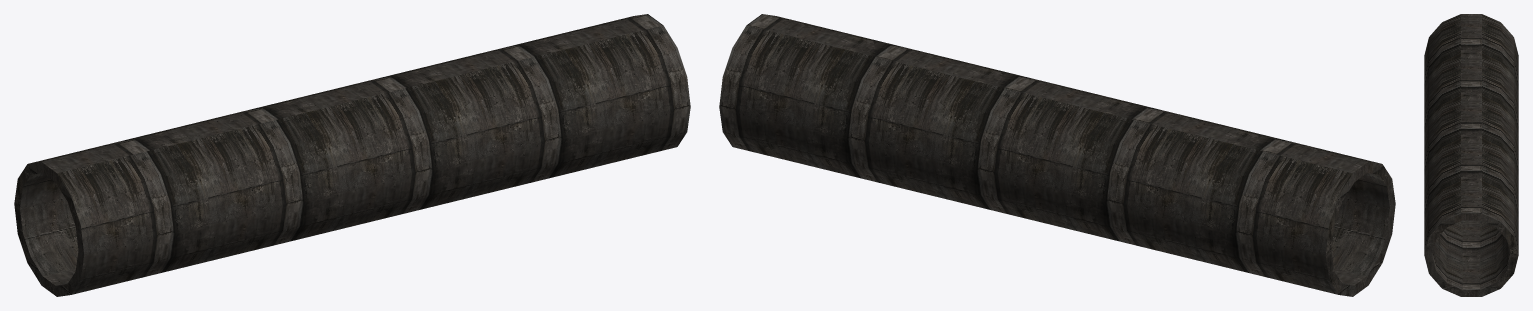
Rendered from ConcreteTube.fbx.
The picture shows the model from 3 angles, left to right: view 1: azimuth 30°, elevation 25°; view 2: azimuth 150°, elevation 25°; view 3: azimuth 270°, elevation 25°; orthographic projection. The views are drawn at different scales.
Parts seen in each view (by area): view 1: Cylinder; view 2: Cylinder; view 3: Cylinder.
Part boxes in pixels (box(x1,y1,x2,y2)): Cylinder: box(14, 14, 690, 296); Cylinder: box(719, 14, 1395, 296); Cylinder: box(1424, 14, 1518, 296).
Bounding box in the file's own units: 10.01 × 1.95 × 2.
